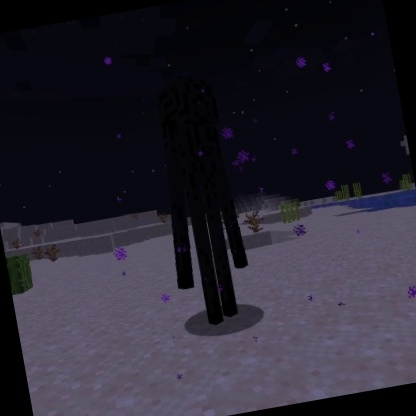enderman: (138, 68, 264, 334)
